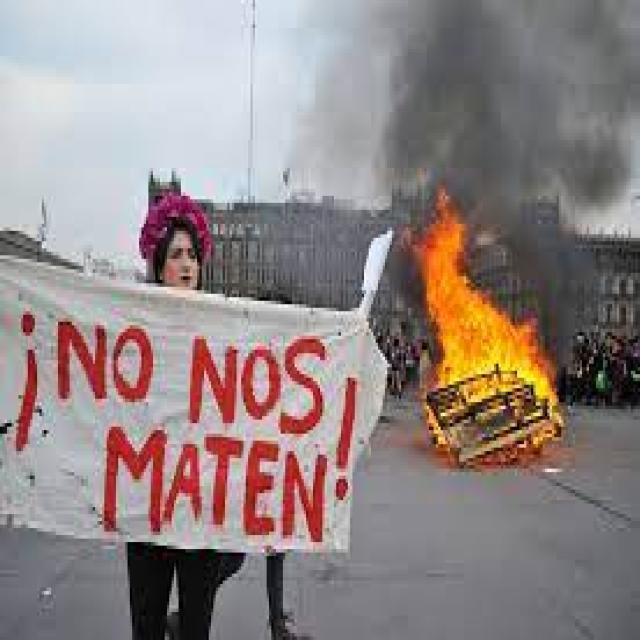Fire: (417, 188, 563, 465)
Smoke: (293, 0, 639, 196), (511, 101, 590, 312), (575, 0, 638, 238), (546, 216, 594, 352)
